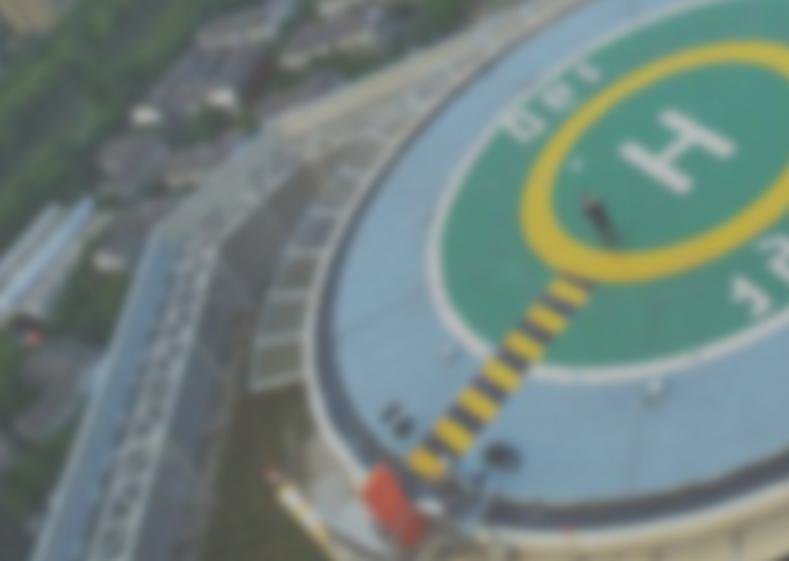Apron: (515, 36, 789, 284)
